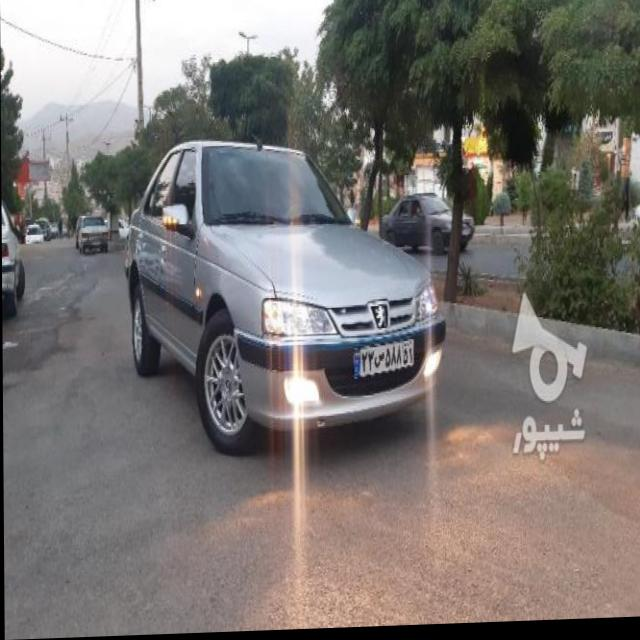licence: (352, 339, 414, 389)
